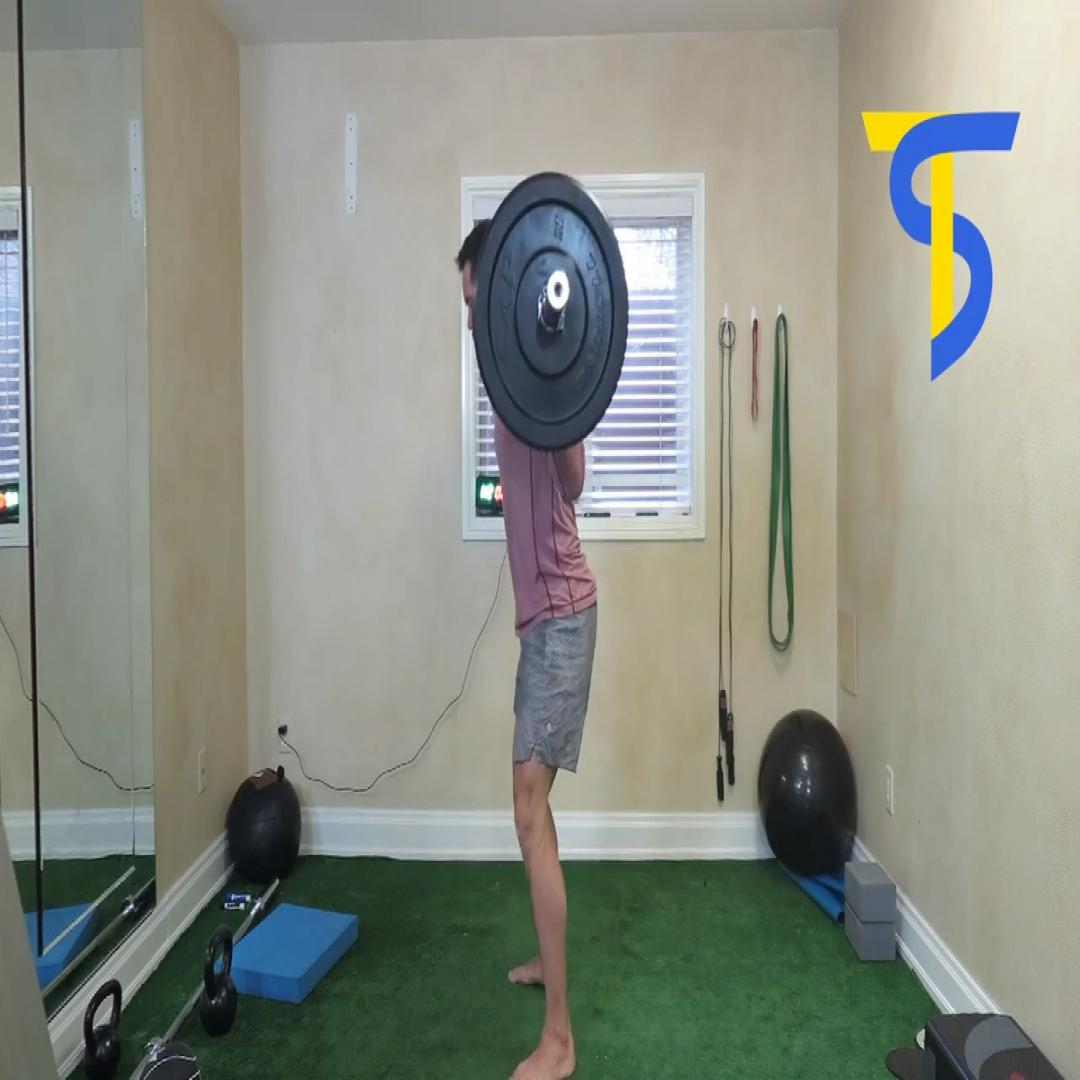Bar: (547, 270, 570, 309)
Barbell: (474, 171, 628, 453)
